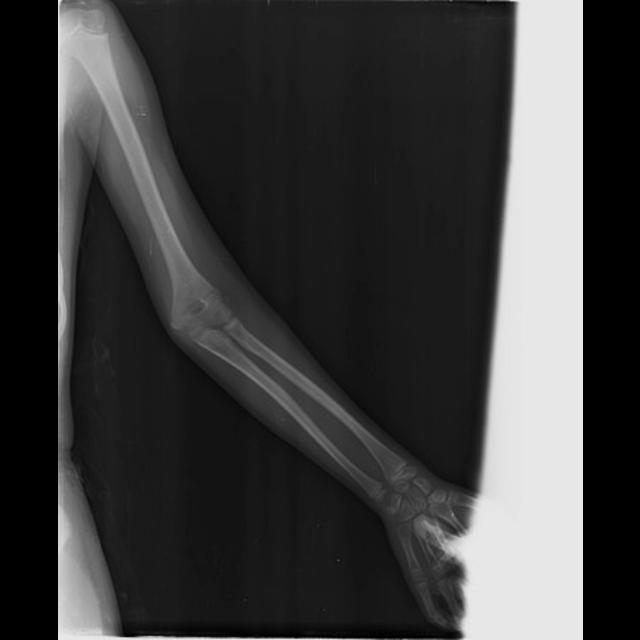Fracture: (190, 282, 225, 307)
